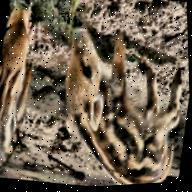boar: (44, 23, 192, 189), (0, 0, 61, 183)
